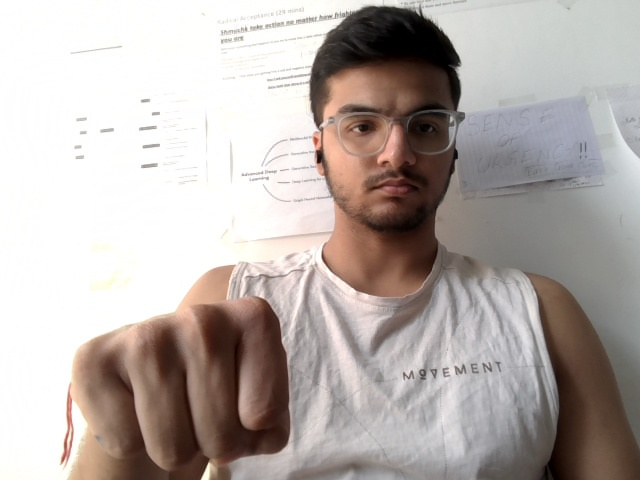yes: (26, 276, 334, 480)
